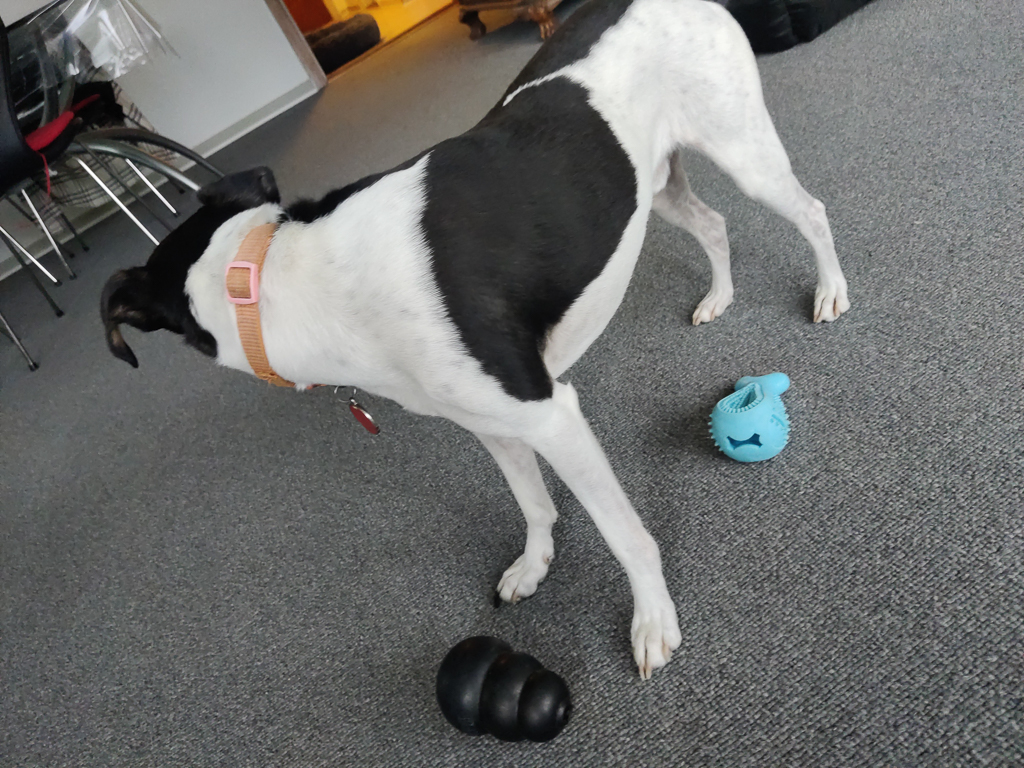Dog: (78, 0, 868, 704)
